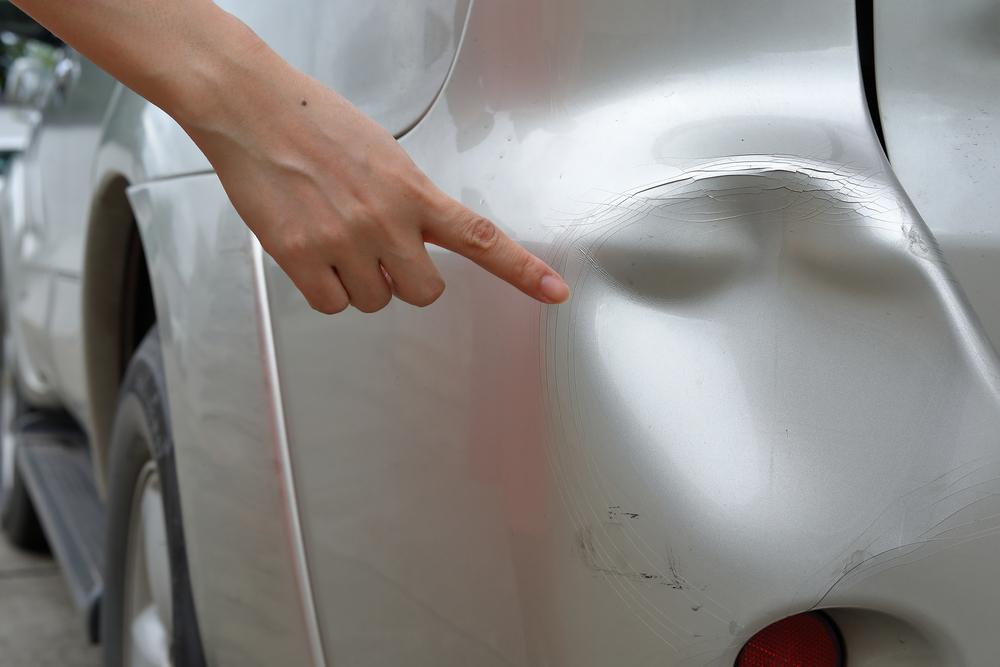dent: (550, 159, 1000, 626)
